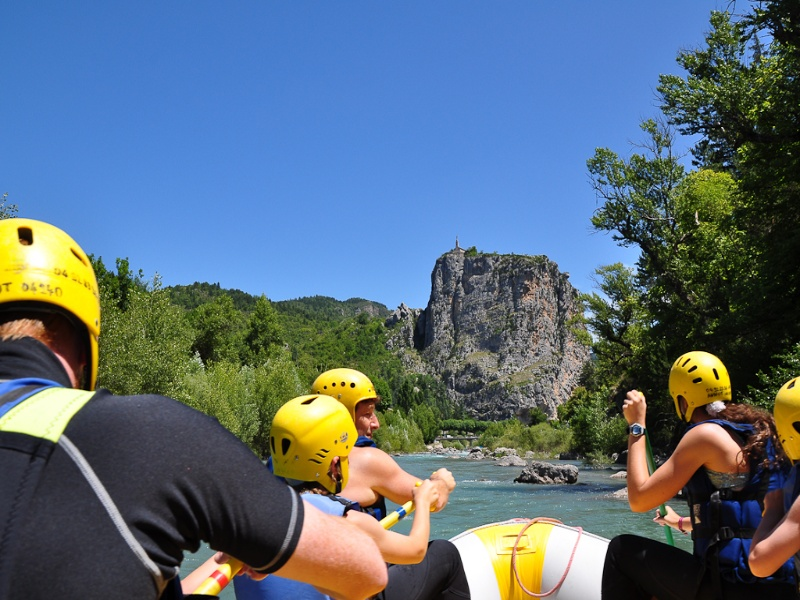Baret: (271, 395, 357, 473), (668, 349, 735, 398), (311, 368, 377, 404)
